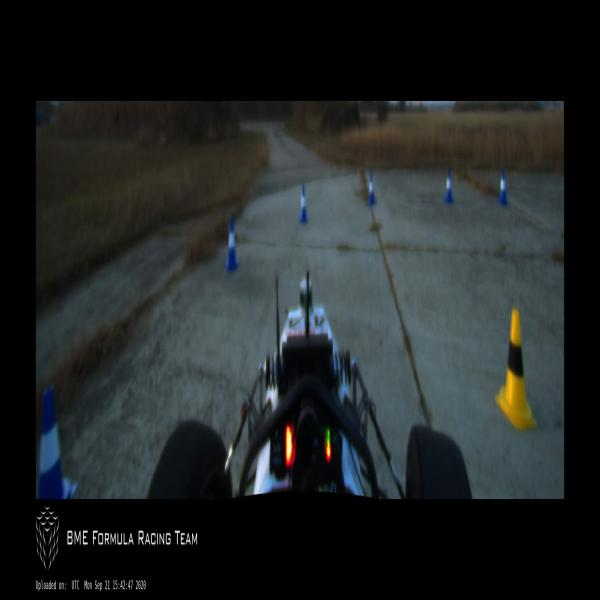blue_cone: (36, 386, 78, 499), (225, 216, 238, 272), (499, 170, 508, 205), (300, 186, 308, 224), (367, 172, 376, 204), (444, 170, 453, 202)
yellow_cone: (496, 311, 536, 429)
